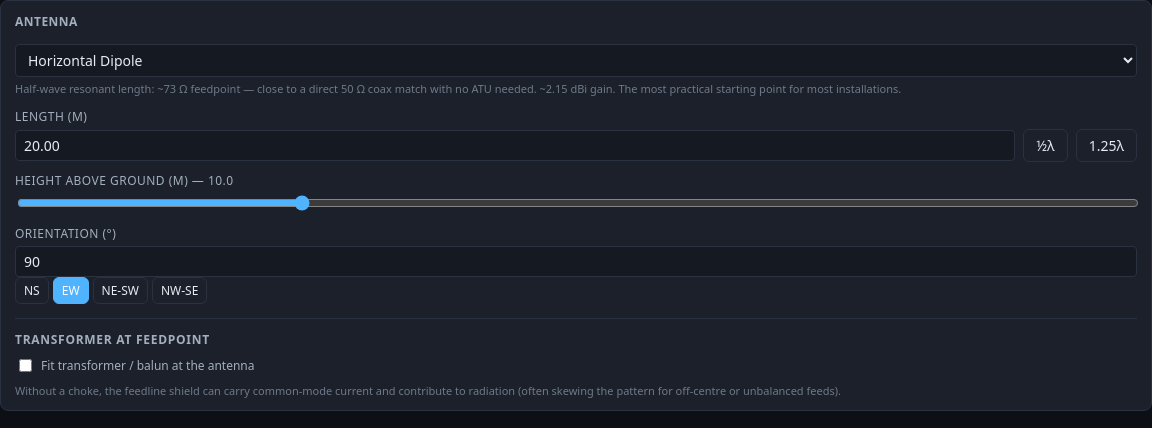
Test: GeometryControl › updates length and resets the local value on blur
The width and height of the screenshot is (1152, 428).
Replace the text in the number field with id "dipole-length" with "33.5" at point(515, 146), box [15,130,1015,161]
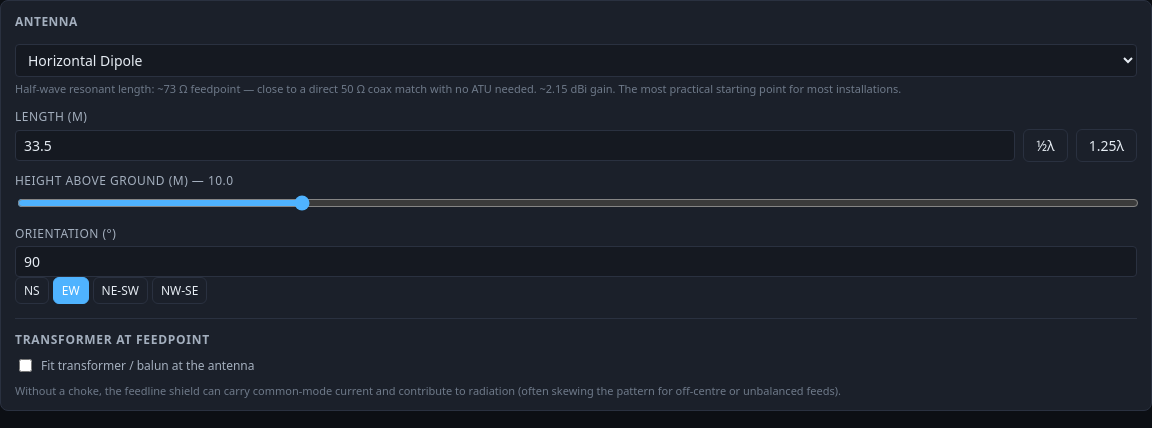
Note: ...and snap back to the canonical store value (20.00) on blur.
Leave the number field with id "dipole-length", box [15,130,1015,161]
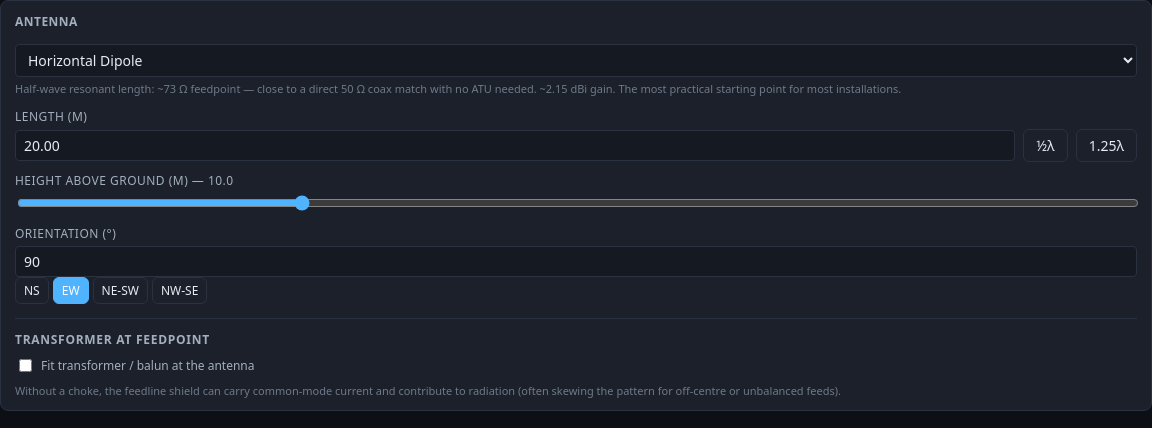
Expected: the number field with id "dipole-length" holds "20.00", [15,130,1015,161]
